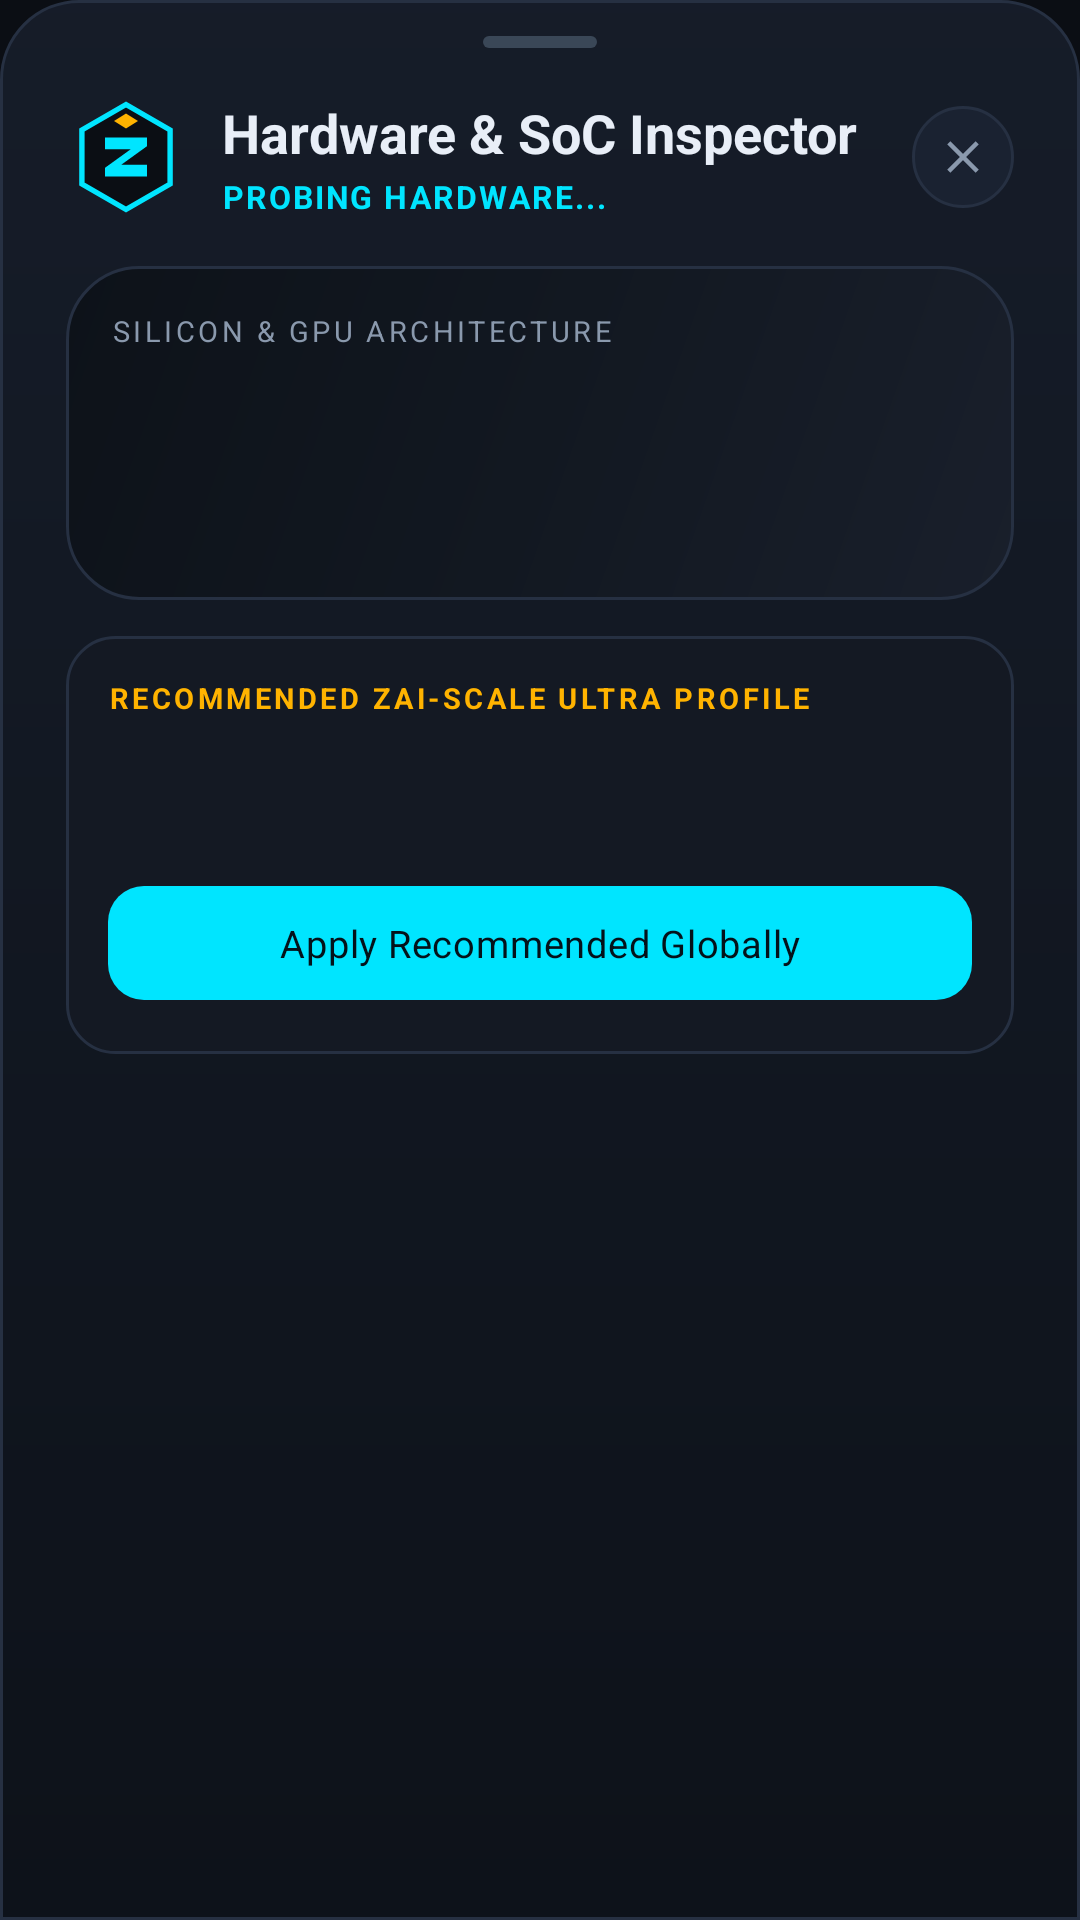

Screen size 1080×1920. Icon name, then its center in pixels as (x=x, y=y):
Close: (x=963, y=157)
